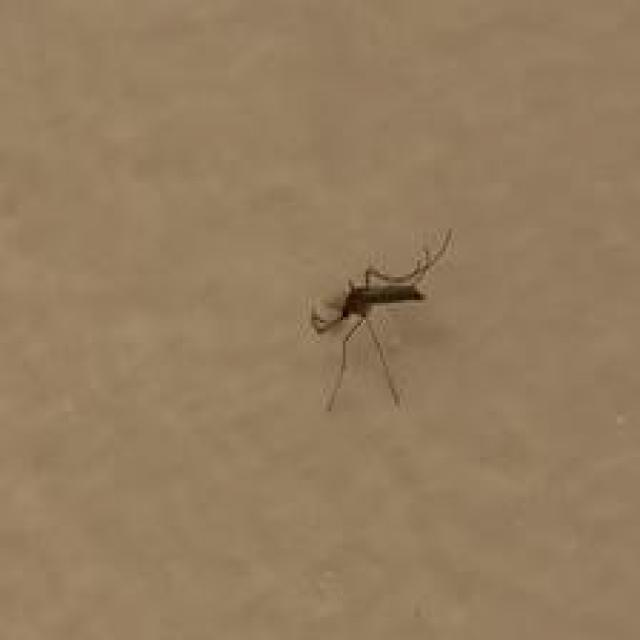Culex: (306, 227, 454, 413)
